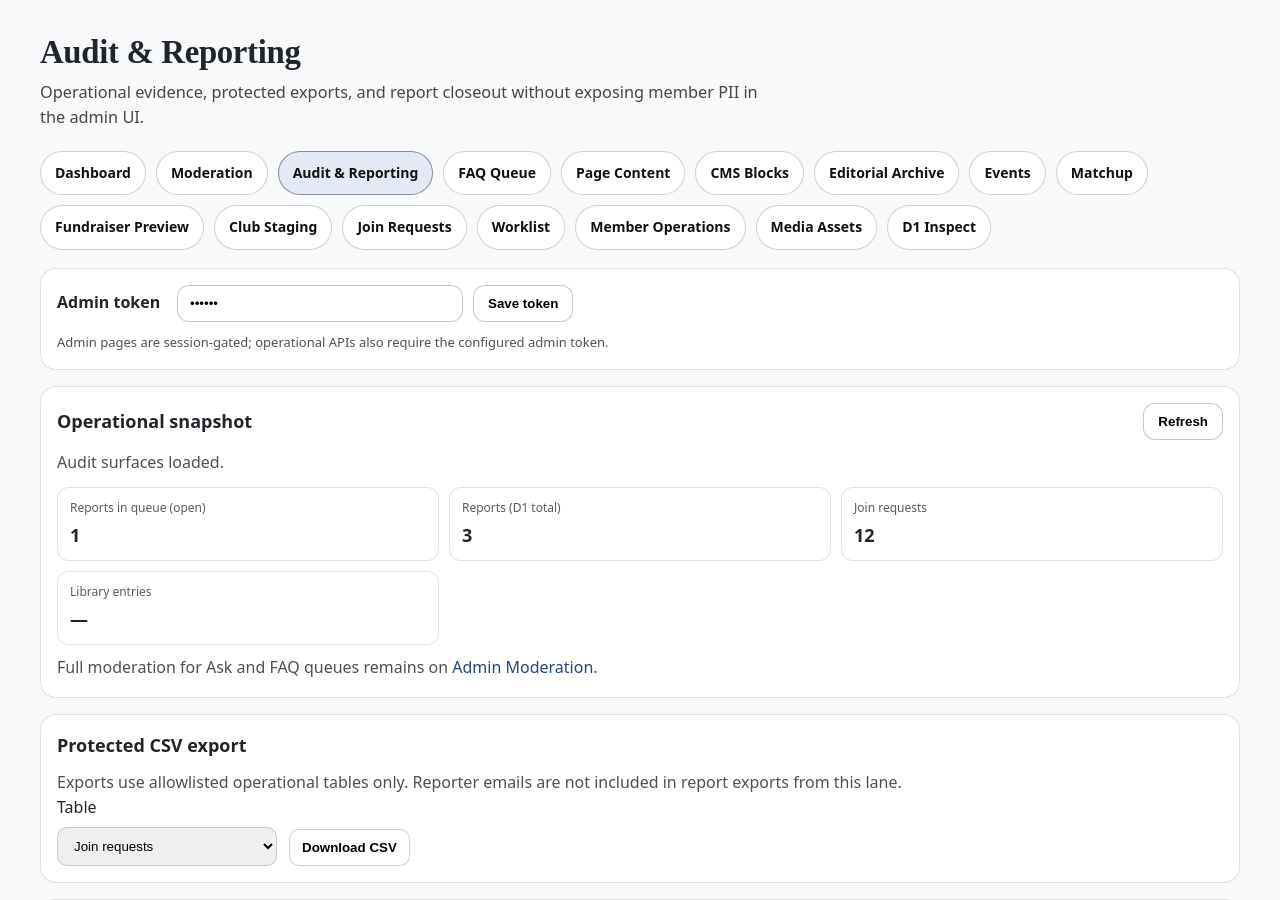
Test case: admin audit reporting page › clears audit state when the admin token is removed
The image size is (1280, 900).
Clear the password field labelled "Admin token": (320, 303) [177, 285, 463, 322]
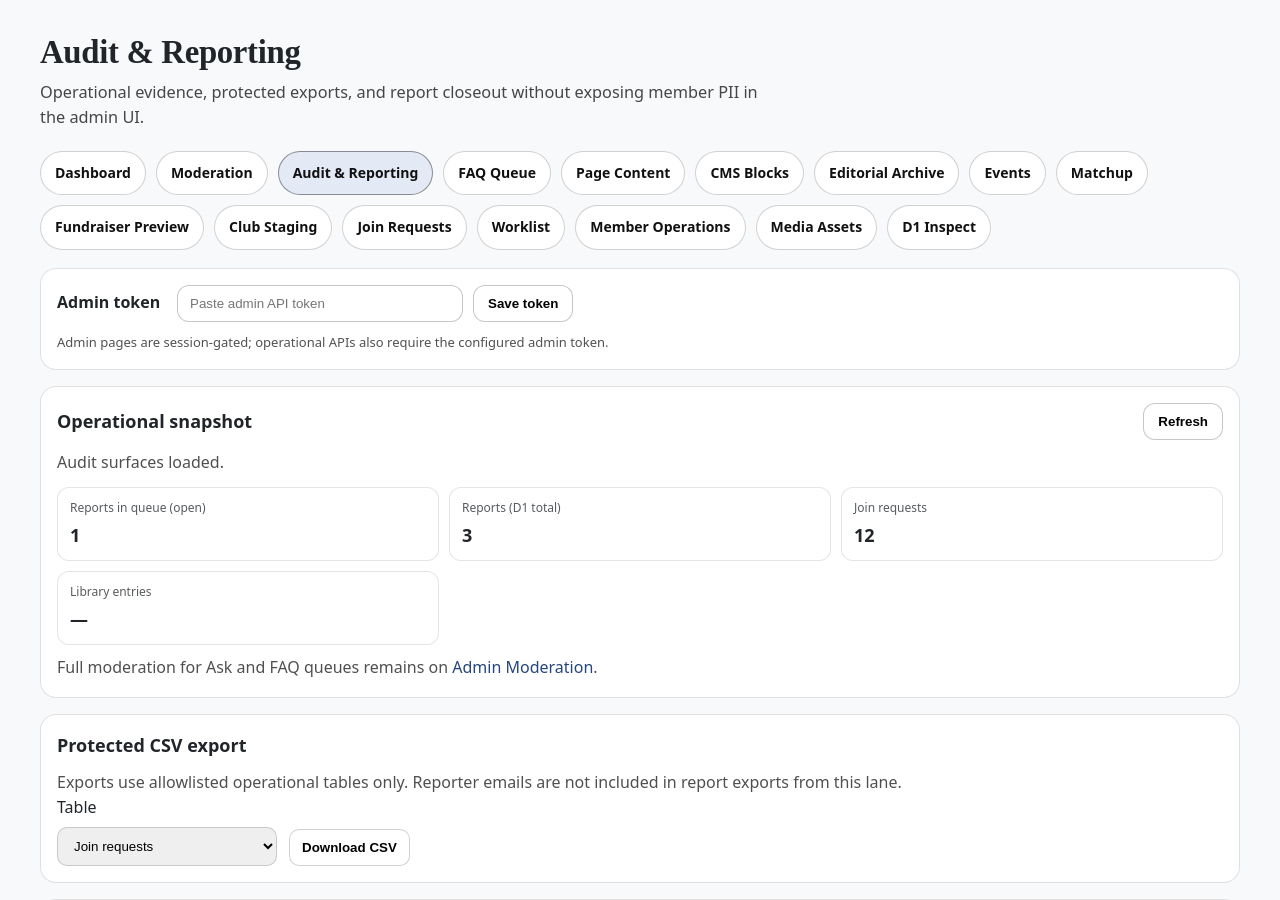
Click the button "Save token": (523, 303) [473, 285, 573, 322]
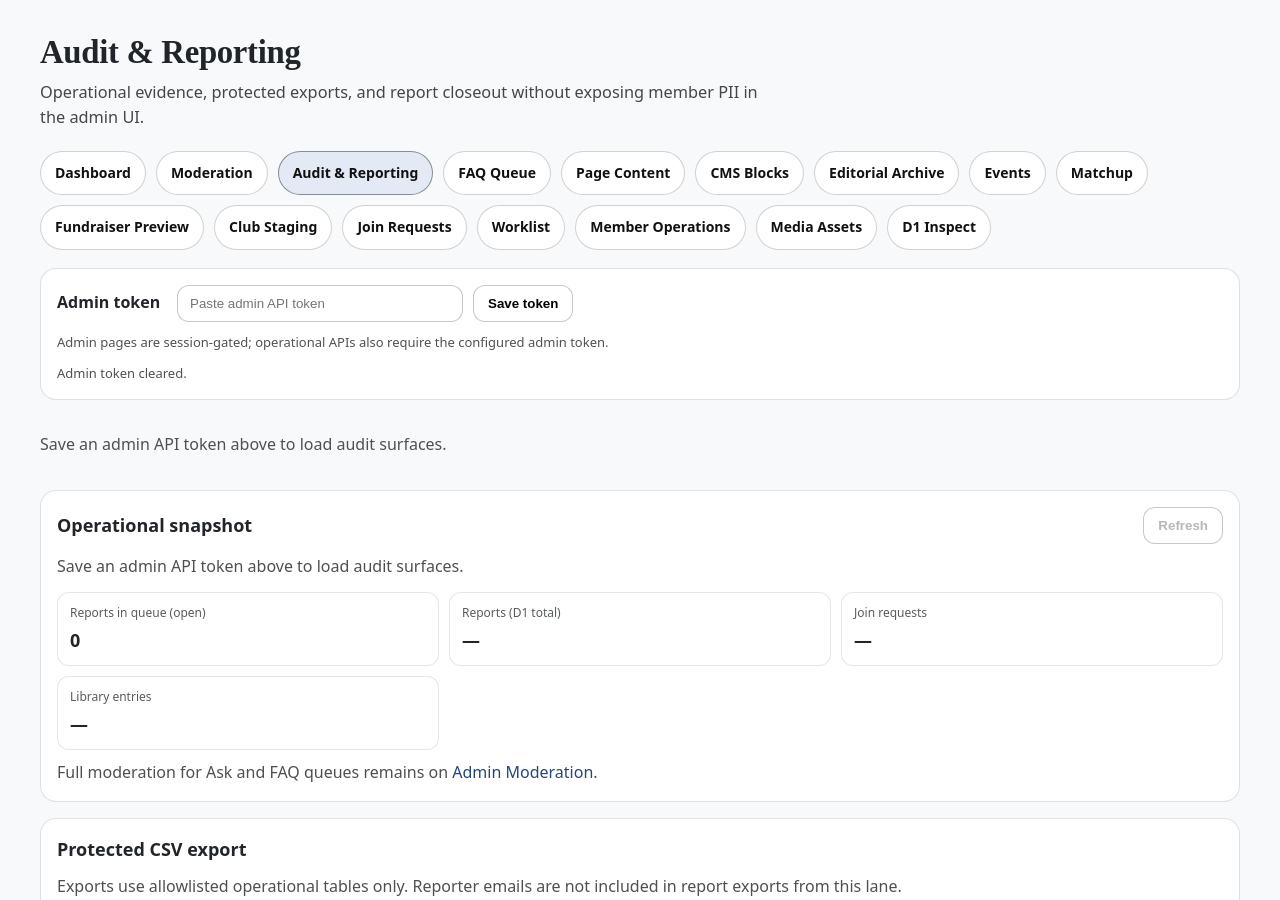
Expected: the 1st text "Save an admin API token above to load audit surfaces." is shown, [40, 433, 447, 455]
